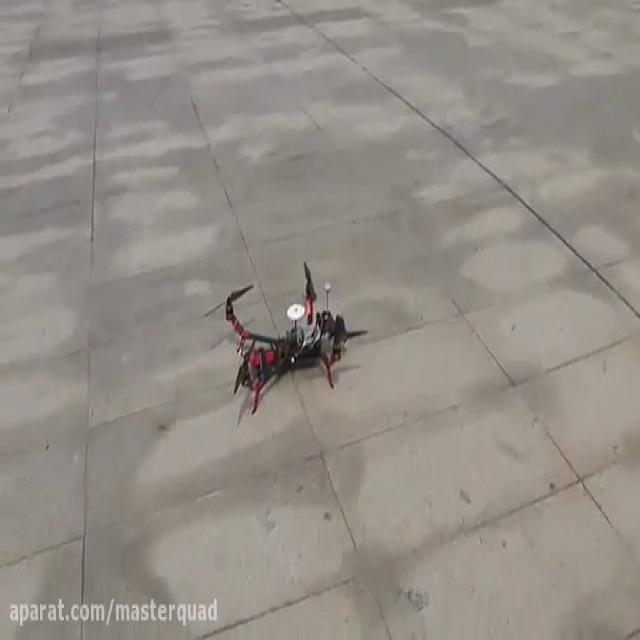drone: (197, 256, 371, 416)
